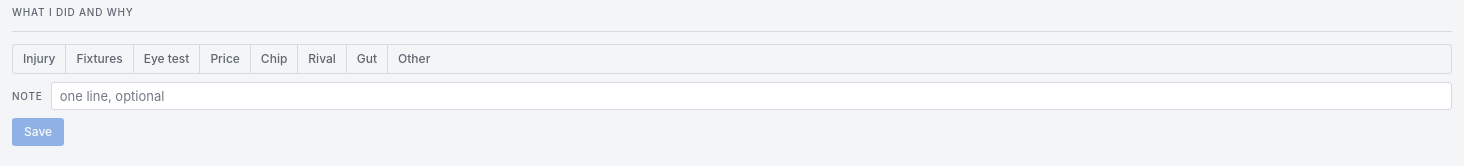
Test: DecisionPanel › offers the eight reasons and saves
Click the button "Injury" at (40, 59), box [13,45,66,73]
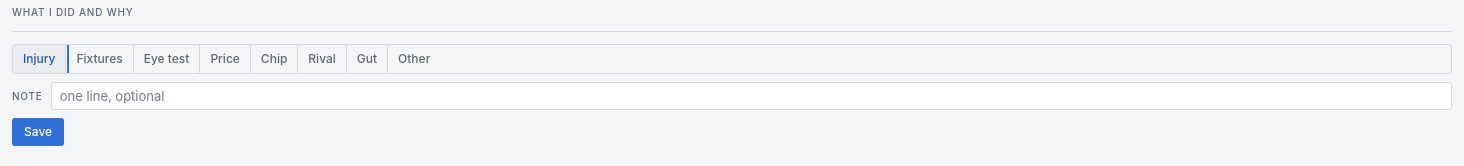
Type "Rice out" into the field labelled "Note" at (751, 96), box [51,82,1452,110]
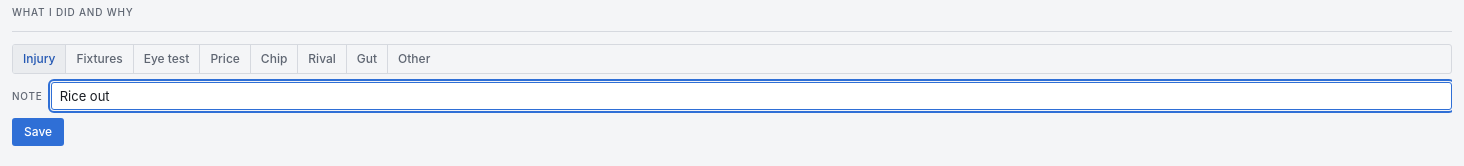
Click the button "Save" at (38, 132), box [12,118,64,146]
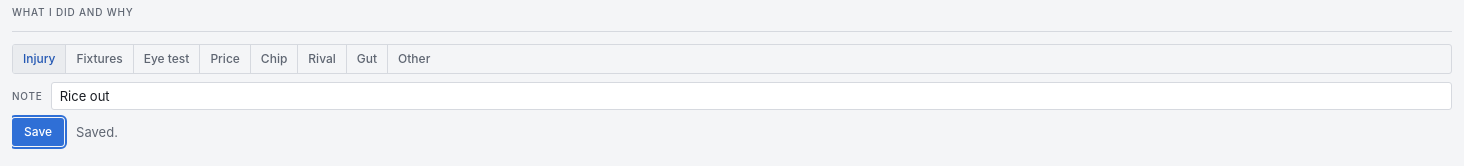
Check: the text "Saved." is shown, box [76,123,118,141]
